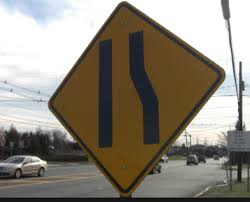laneEnds: (45, 1, 230, 201)
